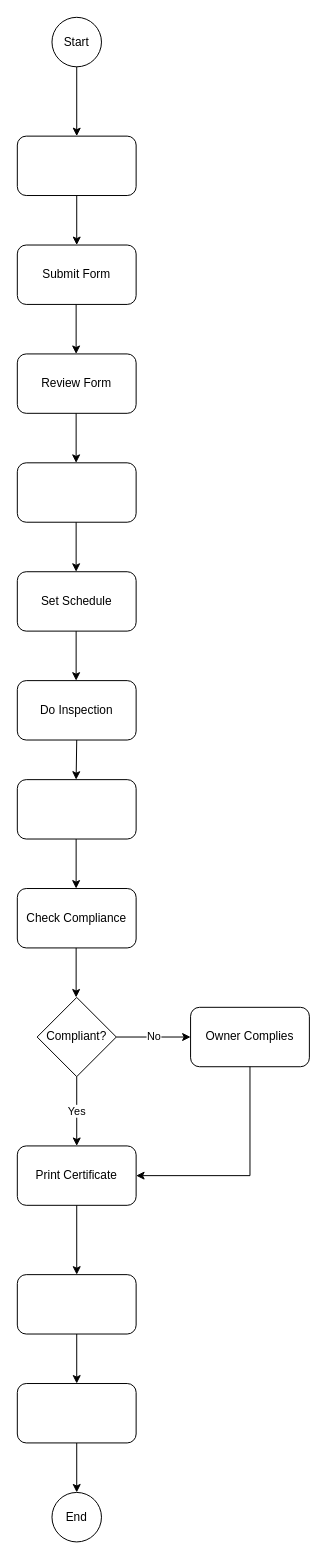
Image size: 327x1559. Some labels were removed from this diagram. The shapes that lost their labels are listed below. From the top down, each one's box as (x1, y1, x2, y2) in pixels, then its label:
(16, 135, 136, 196): Fills out paper Registration Form
(16, 462, 136, 522): Store in Cabinet
(16, 779, 136, 839): Submit Result
(16, 1274, 136, 1334): Owner Claims Cert
(16, 1383, 136, 1443): Archive Files
